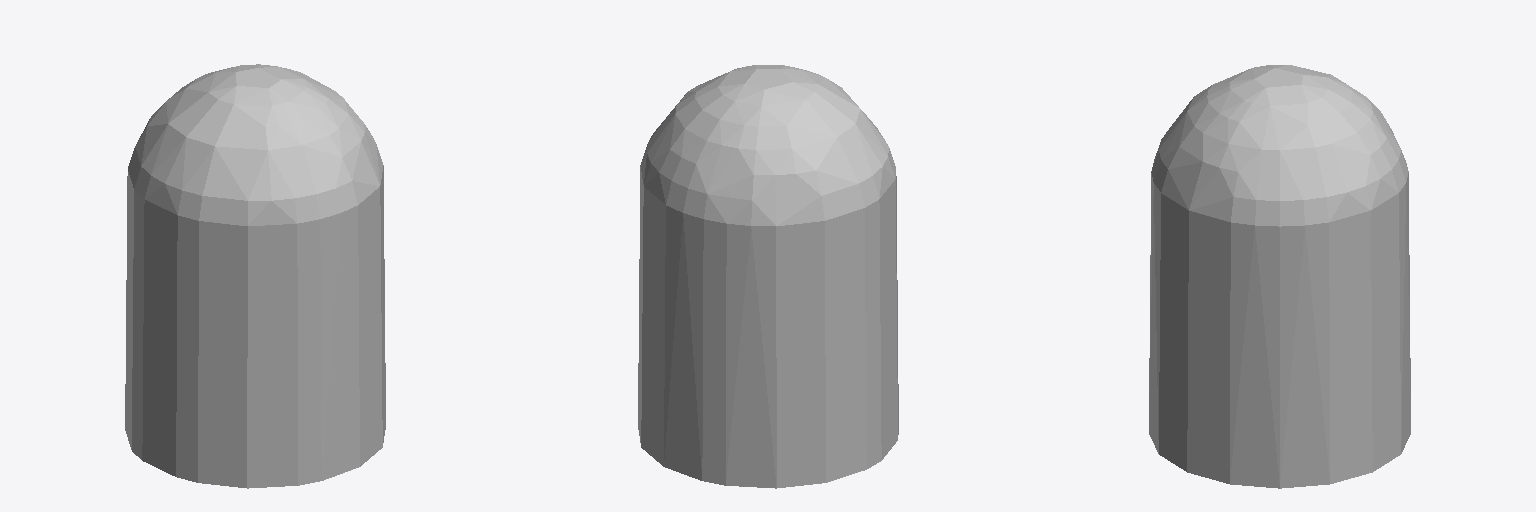
The model's file is Robot.obj.
3 views of the same model, side by side, from view 1: azimuth 30°, elevation 25°; view 2: azimuth 150°, elevation 25°; view 3: azimuth 270°, elevation 25° (orthographic).
Parts seen in each view (by area): view 1: Sphere; view 2: Sphere; view 3: Sphere.
Part boxes in pixels (bbox=[...]): Sphere: bbox=[125, 64, 385, 488]; Sphere: bbox=[638, 65, 898, 488]; Sphere: bbox=[1149, 65, 1410, 488].
Bounding box in the file's own units: 0.8 × 1.19 × 0.8.